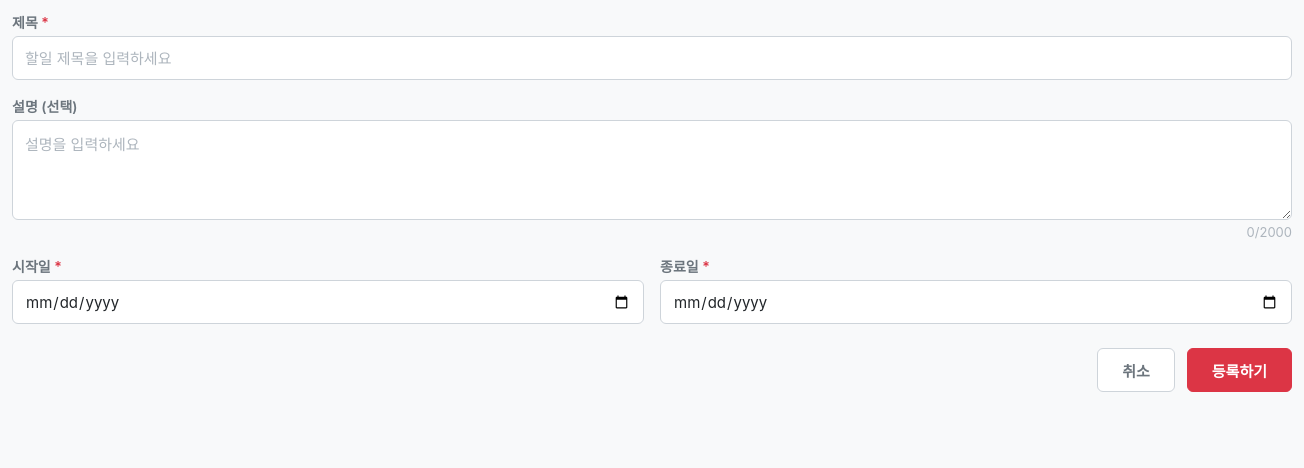
Test: TodoCreateForm › 빈 폼 제출 시 제목 오류 메시지가 표시된다
Click the button "등록하기": [1239, 370] box [1187, 348, 1292, 392]
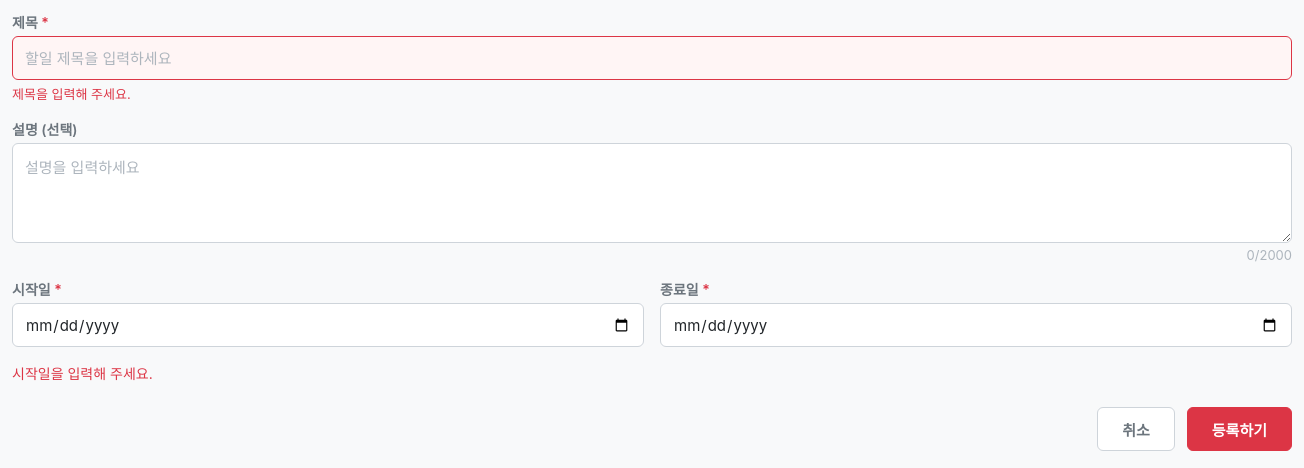
Result: the text "제목을 입력해 주세요." is shown at [12, 86, 131, 102]
